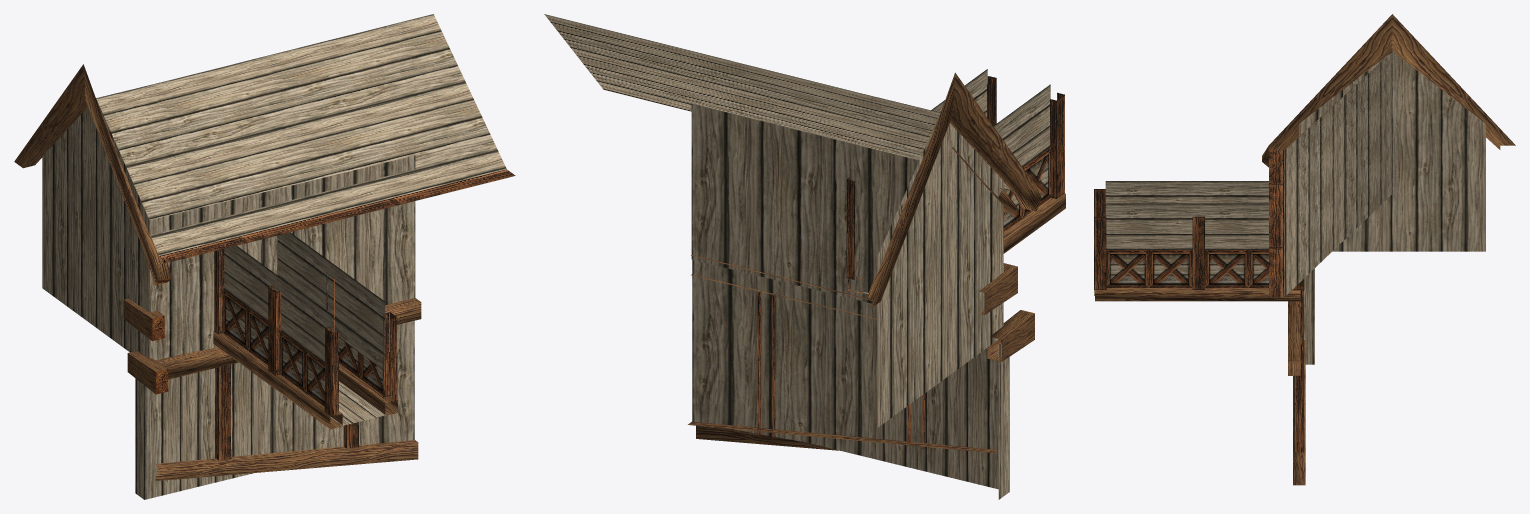
File: LAKETOWN_EXTERIOR_PS_LT_FISHRAMP978__GX.obj
3 views of the same model, side by side, from view 1: azimuth 30°, elevation 25°; view 2: azimuth 150°, elevation 25°; view 3: azimuth 270°, elevation 25° (orthographic). The views are drawn at different scales.
Parts seen in each view (by area): view 1: FishRamp978__GX; view 2: FishRamp978__GX; view 3: FishRamp978__GX.
Part boxes in pixels (x1=…): FishRamp978__GX: x1=14, y1=14, x2=515, y2=499; FishRamp978__GX: x1=544, y1=14, x2=1065, y2=499; FishRamp978__GX: x1=1094, y1=14, x2=1515, y2=485.
Size of the model in its own units: 876 by 977 by 1015.
